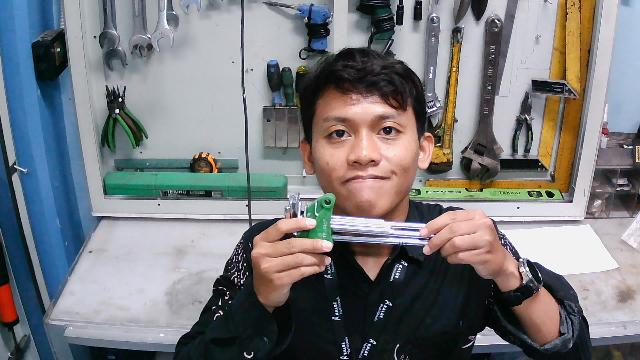kunci_l_bintang: (279, 188, 445, 256)
